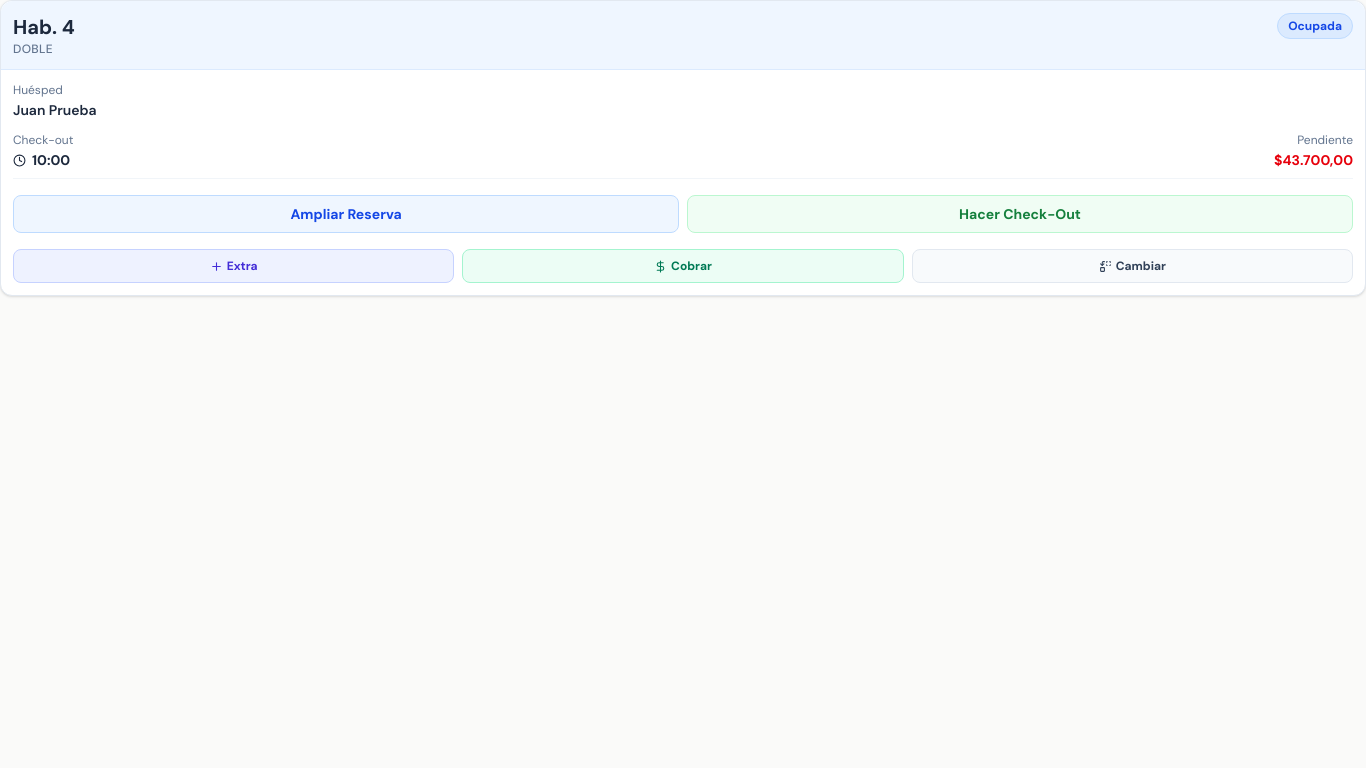
Test case: RoomCard: Cobrar a cuenta antes del check-out › si carga más de lo que falta, el cuadro lo dice y no registra nada
Click the button "Cobrar": (683, 266) [462,249,904,283]
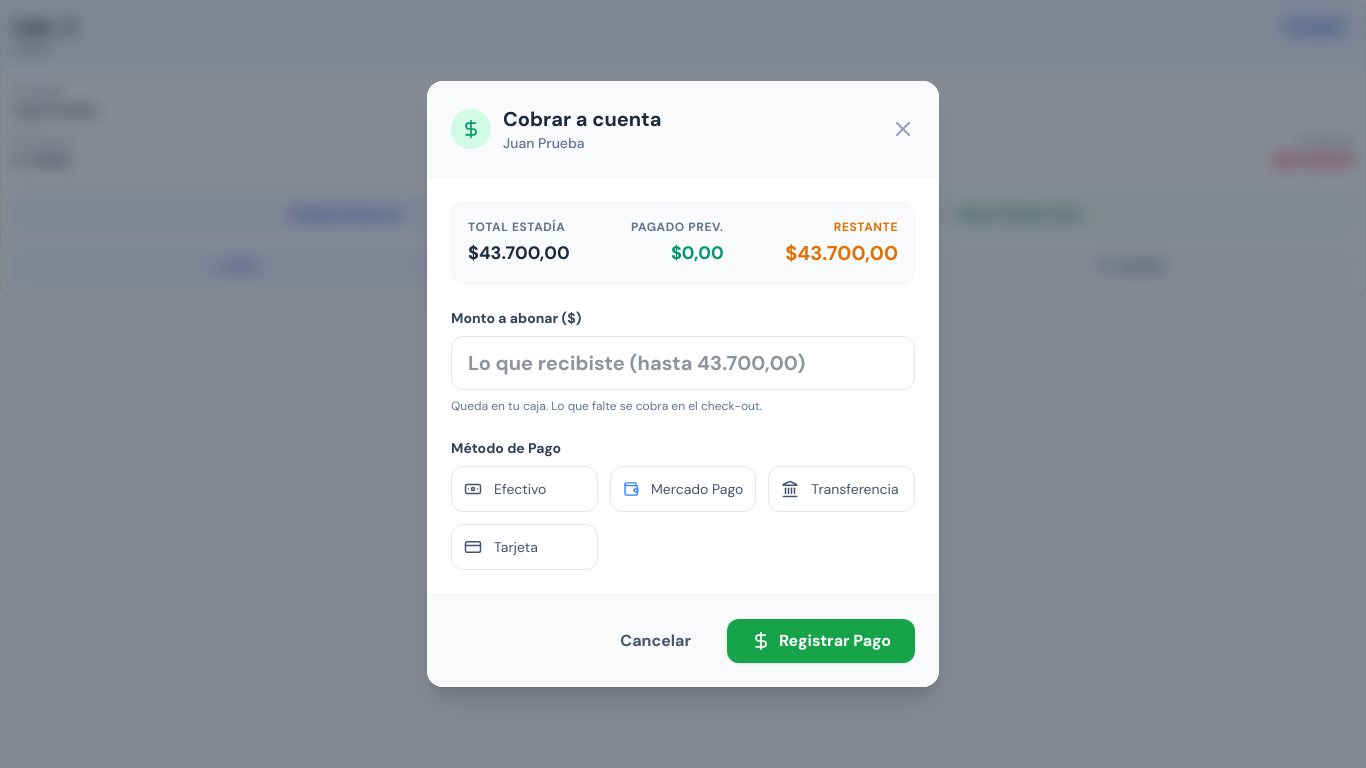
In the field labelled "Monto a abonar ($)": (683, 363) [451,336,915,390], type "50.000"
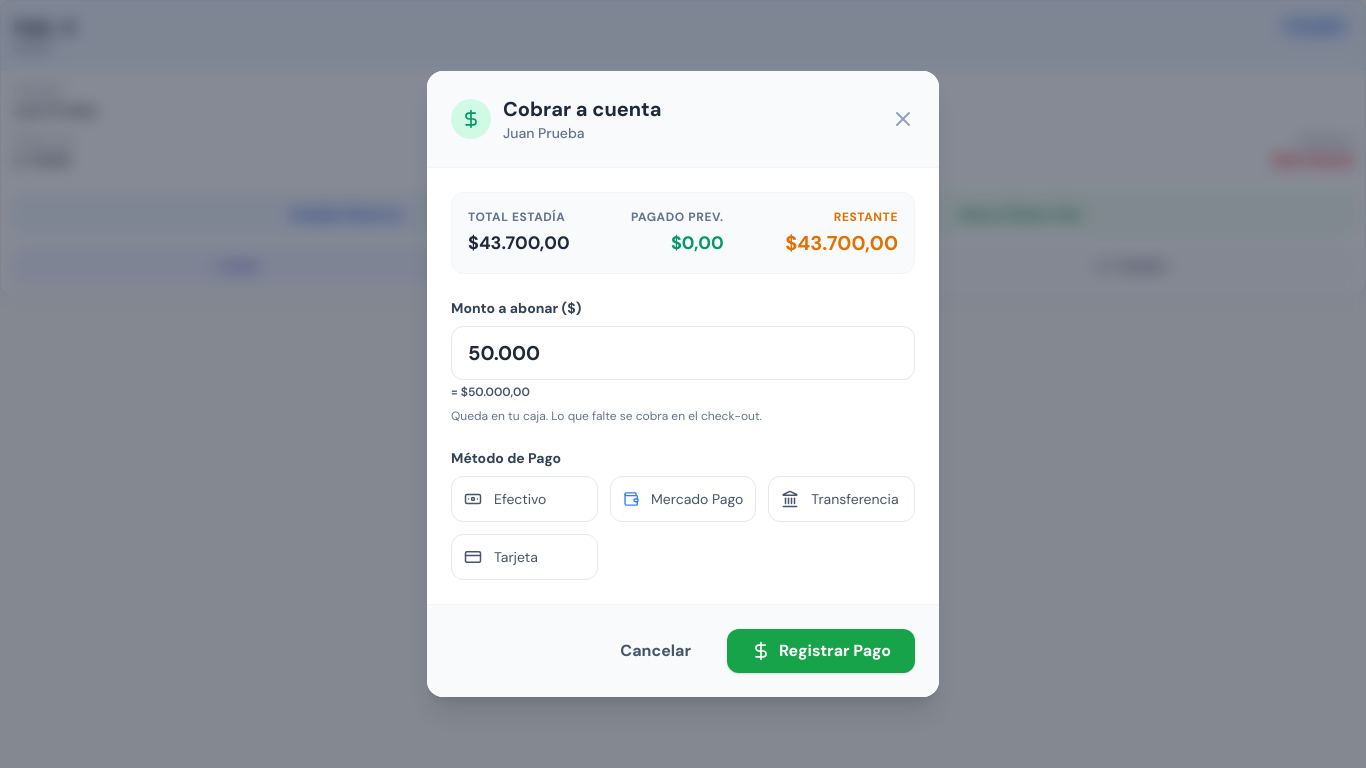
Click the radio button labelled "Efectivo": (524, 499) [451,476,598,522]
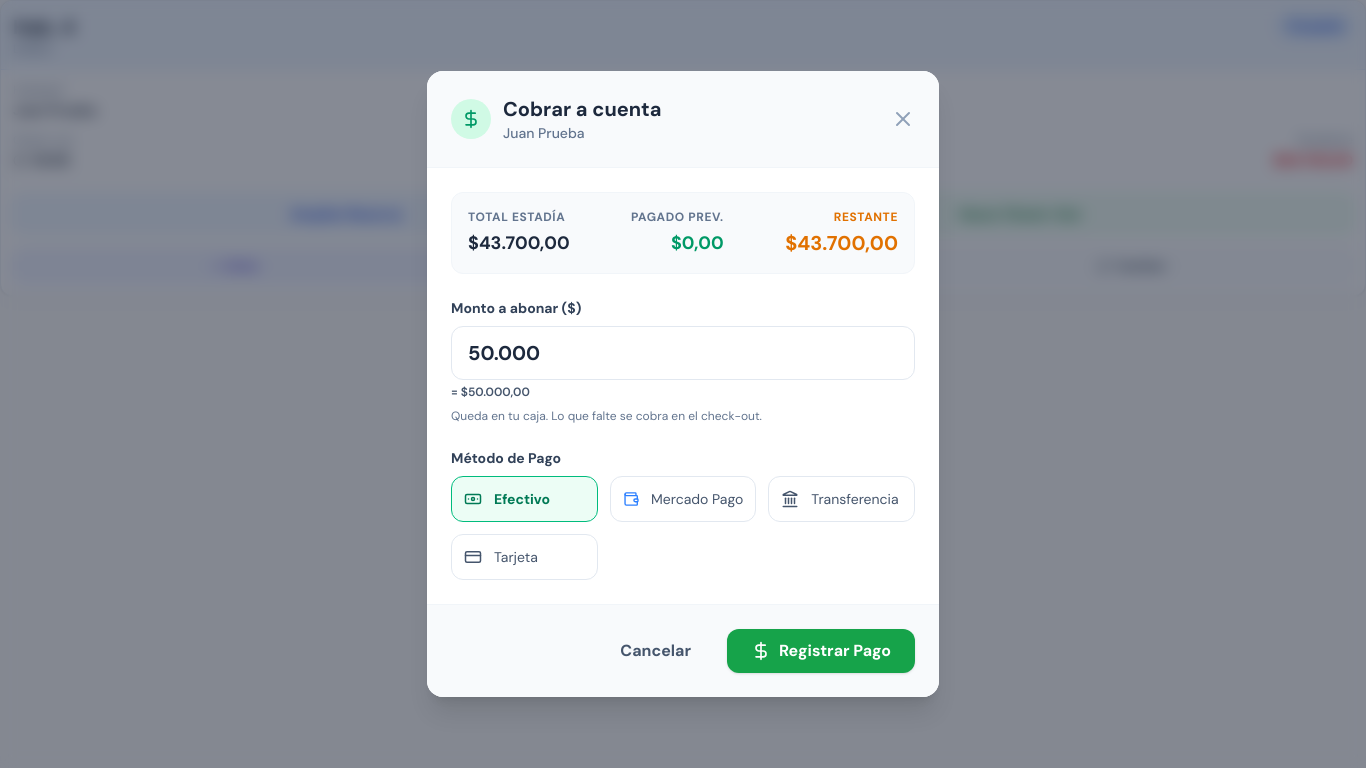
Click the button "Registrar Pago": (821, 651) [727,629,915,673]
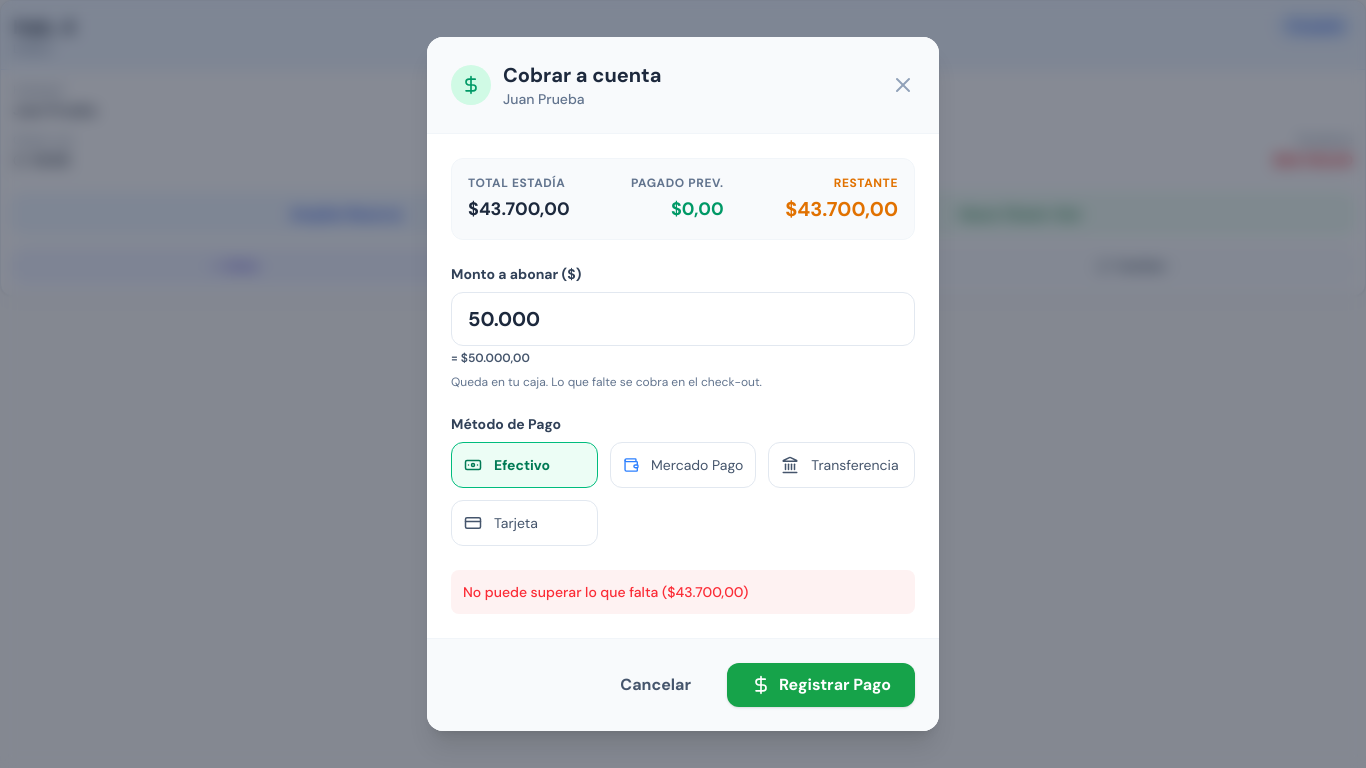
Expected: the text "No puede superar lo que falta ($43.700,00)" is shown, [451,570,915,614]
